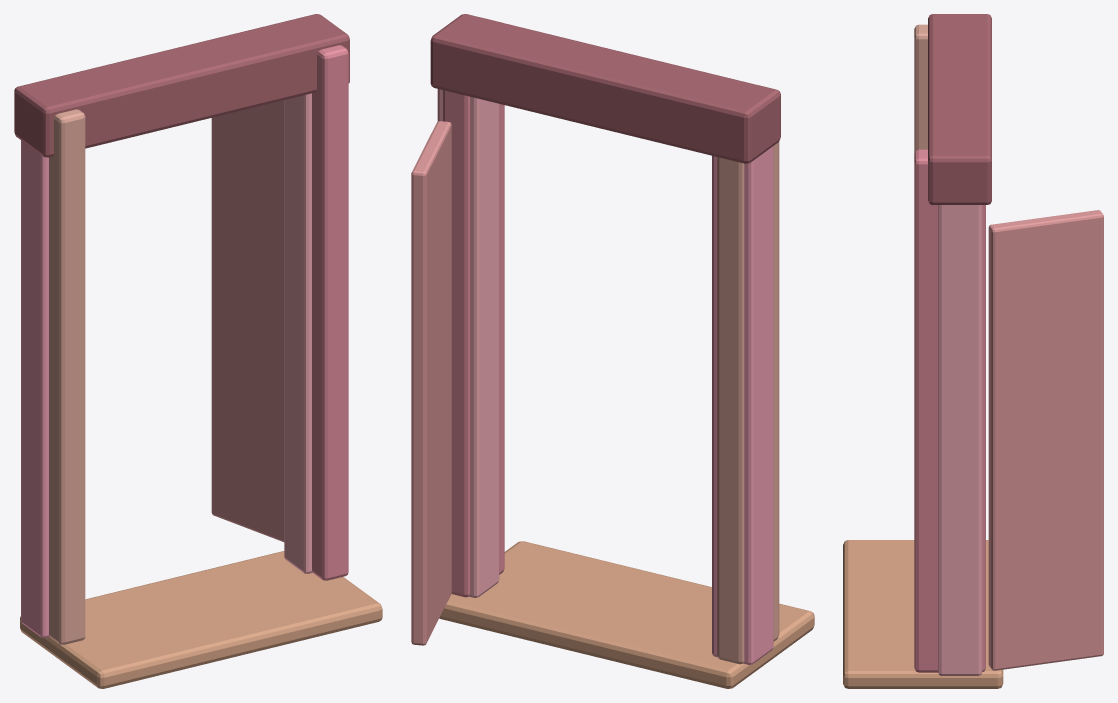
Rendered from WC_RIVER_Entrance_Open_A.glb.
The picture shows the model from 3 angles, left to right: view 1: azimuth 30°, elevation 25°; view 2: azimuth 150°, elevation 25°; view 3: azimuth 270°, elevation 25°; orthographic projection. The views are drawn at different scales.
Visible parts, largest first — view 1: WC_RIVER_Entrance_Open_A_RenderMesh; view 2: WC_RIVER_Entrance_Open_A_RenderMesh; view 3: WC_RIVER_Entrance_Open_A_RenderMesh.
Part boxes in pixels (x1,y1,x2,y2): WC_RIVER_Entrance_Open_A_RenderMesh: [14, 14, 382, 688]; WC_RIVER_Entrance_Open_A_RenderMesh: [411, 14, 814, 688]; WC_RIVER_Entrance_Open_A_RenderMesh: [843, 14, 1103, 688].
Size of the model in its own units: 1.4 by 2.41 by 1.06.
